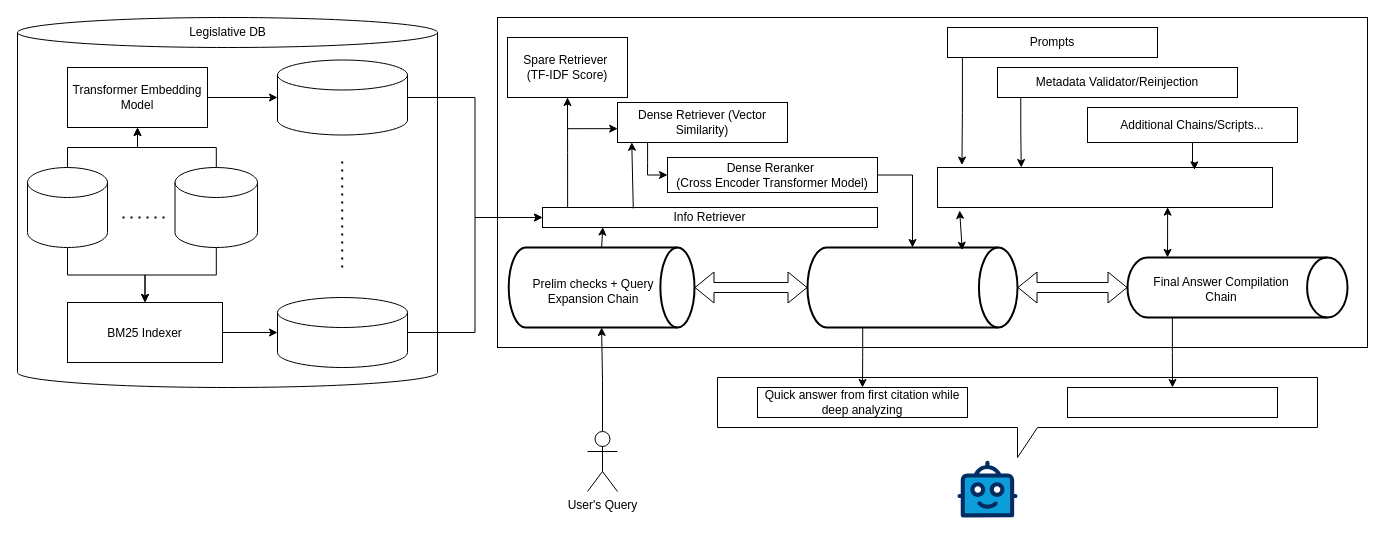
Image size: 1385x535. Some labels were removed from this diagram. Here are the shapes that lost their labels. From the top down, the centre of each, then its label:
pixel 342 97: Embedded Vectors
pixel 67 207: Raw Text - Bills
pixel 216 207: Raw Text - Codes & Statutes
pixel 1104 187: LLM Context Engineering
pixel 912 287: One Shot + Parallel Btach Analysis Chain
pixel 342 332: Sparse Indices
pixel 1172 402: Final answer with full citations
